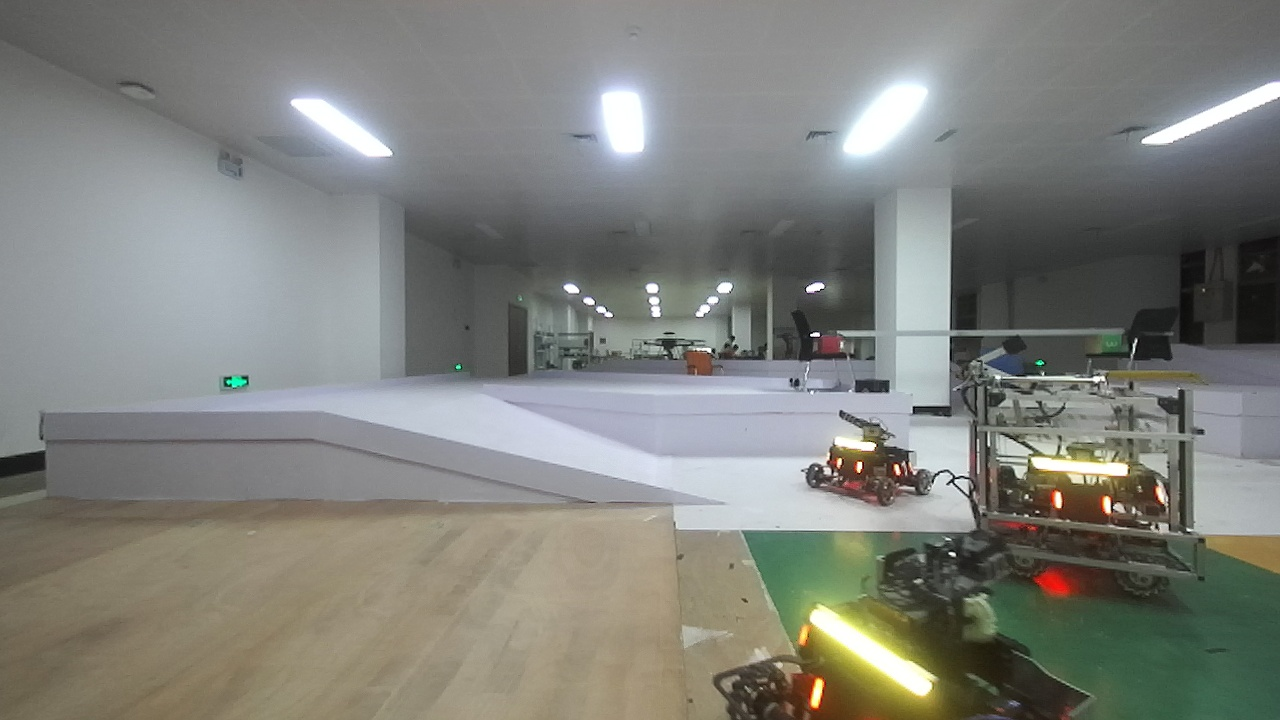car: (926, 334, 1227, 589), (711, 571, 1118, 720), (789, 401, 943, 513)
